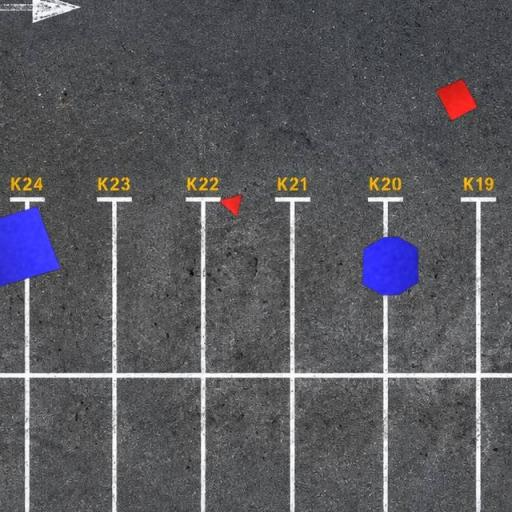BLUE_SQUARE: (0, 206, 62, 288)
RED_SQUARE: (436, 78, 478, 122)
